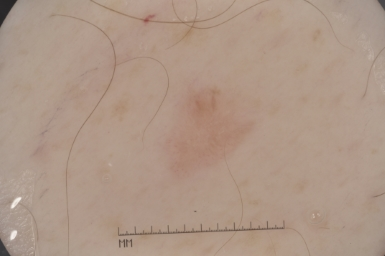seborrheic keratosis: (154, 73, 263, 189)
